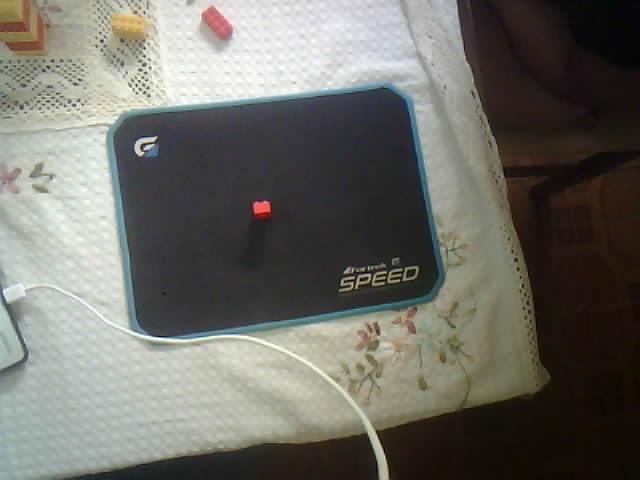lego: (1, 1, 47, 56), (201, 6, 234, 40), (110, 13, 147, 40), (251, 200, 273, 220)
